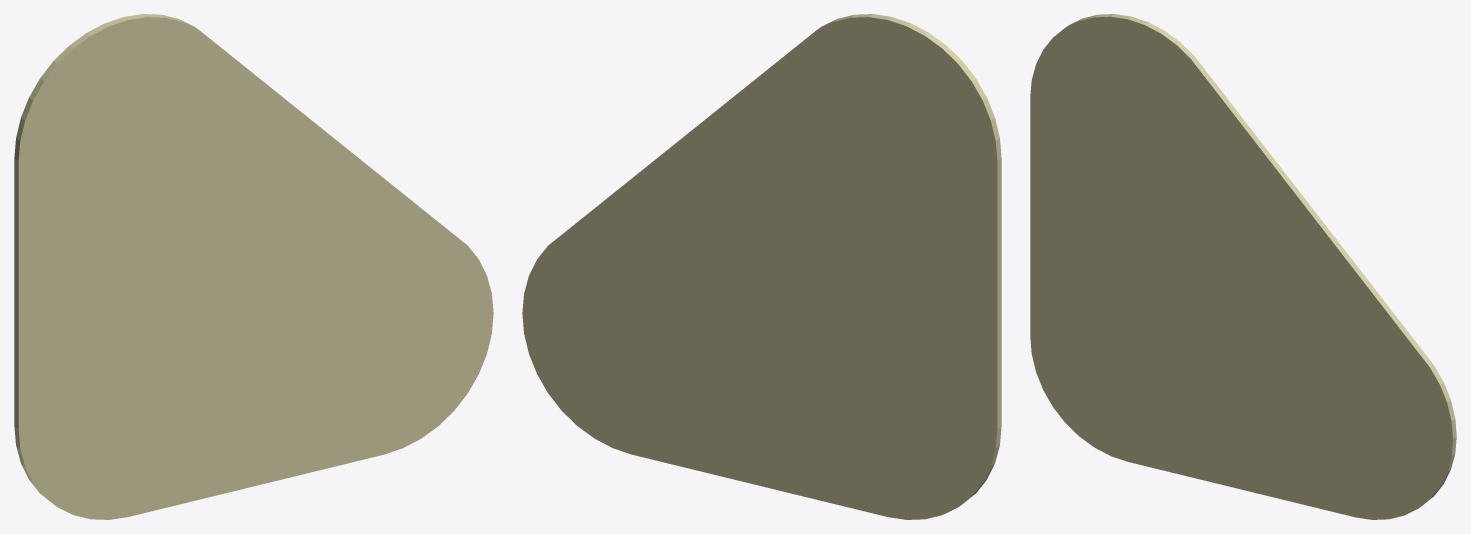
File: hull2d.glb
3 views of the same model, side by side, from view 1: azimuth 30°, elevation 25°; view 2: azimuth 150°, elevation 25°; view 3: azimuth 330°, elevation 25° (orthographic). The views are drawn at different scales.
Parts seen in each view (by area): view 1: geometry_0; view 2: geometry_0; view 3: geometry_0.
Boxes of the visible parts, x1,y1,x2,y2 form: geometry_0: [14, 14, 493, 519]; geometry_0: [522, 14, 1001, 519]; geometry_0: [1030, 14, 1456, 519].
Size of the model in its own units: 13 by 13 by 0.2.
